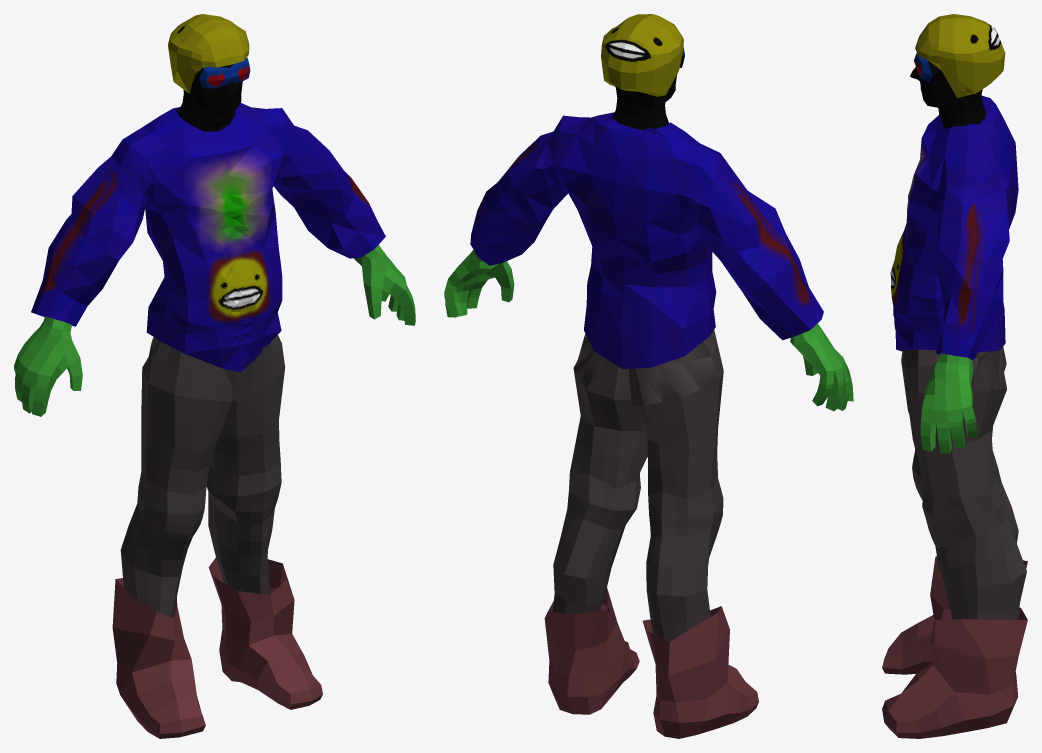
File: R_skierFull.fbx
The picture shows the model from 3 angles, left to right: view 1: azimuth 30°, elevation 25°; view 2: azimuth 150°, elevation 25°; view 3: azimuth 270°, elevation 25°; orthographic projection.
Parts seen in each view (by area): view 1: Jacket; view 2: Jacket; view 3: Jacket.
Part boxes in pixels (bbox=[...]): Jacket: bbox=[14, 14, 415, 738]; Jacket: bbox=[444, 14, 853, 738]; Jacket: bbox=[882, 14, 1027, 738].
Size of the model in its own units: 358 by 601 by 117.
